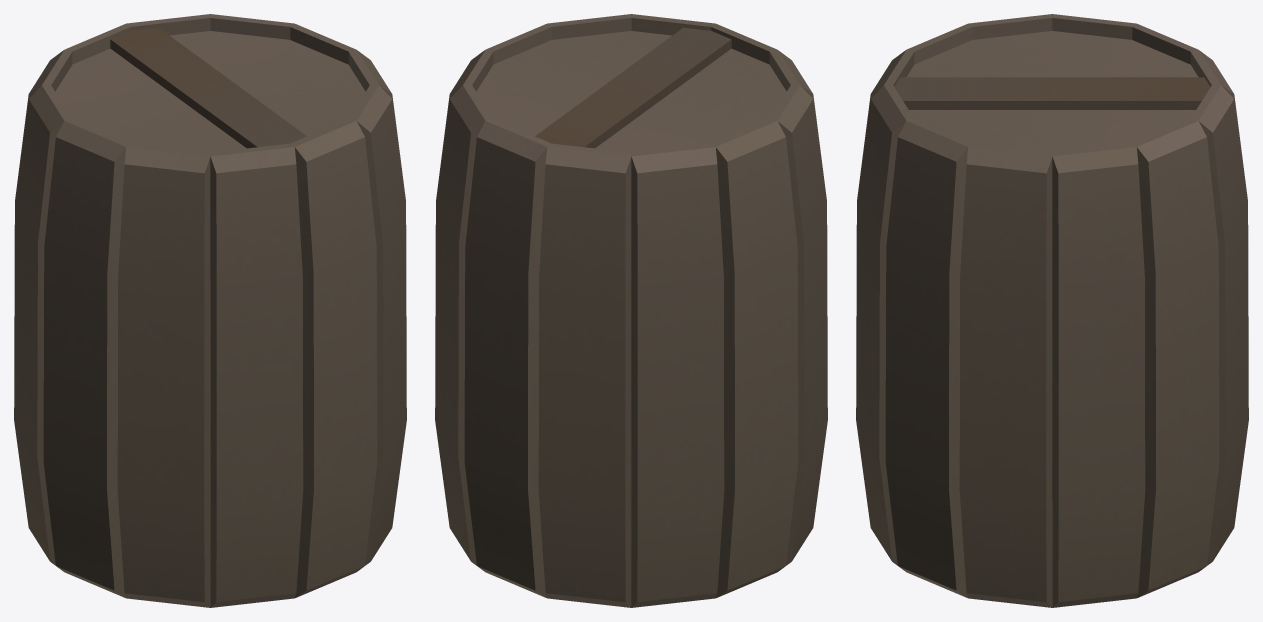
The model's file is Barrel_2.fbx.
3 renders of one model, left to right at view 1: azimuth 30°, elevation 25°; view 2: azimuth 150°, elevation 25°; view 3: azimuth 270°, elevation 25°, orthographic.
Parts seen in each view (by area): view 1: pCube774; view 2: pCube774; view 3: pCube774.
Boxes of the visible parts, x1=… form: pCube774: x1=14, y1=14, x2=406, y2=607; pCube774: x1=435, y1=14, x2=827, y2=607; pCube774: x1=856, y1=14, x2=1248, y2=607.
Bounding box in the file's own units: 81.99 × 104 × 81.99.
